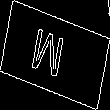M_S: (35, 25, 75, 85)
